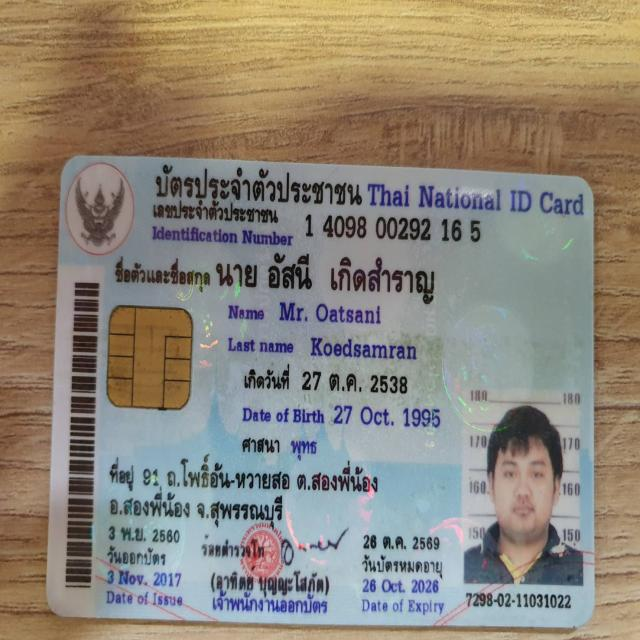Address_th: (103, 451, 387, 532)
Date_of_Birth: (325, 394, 448, 440)
Date_of_Expiry: (358, 572, 440, 597)
Date_of_Issue: (102, 568, 186, 588)
First_Name: (271, 294, 390, 331)
ID_Number: (299, 211, 488, 249)
Image: (468, 393, 582, 584)
Last_Name: (305, 333, 422, 368)
Thai_Name: (215, 242, 448, 308)
